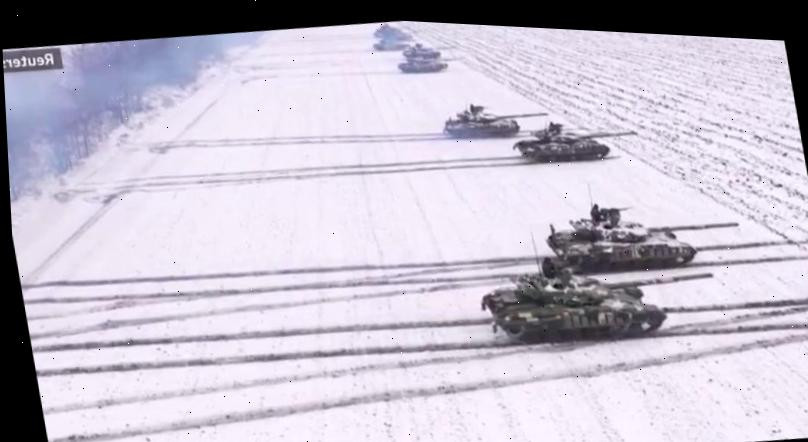tank: (468, 232, 722, 359), (537, 182, 746, 287), (506, 108, 640, 171), (437, 90, 552, 146), (387, 45, 454, 79), (394, 35, 447, 63)
